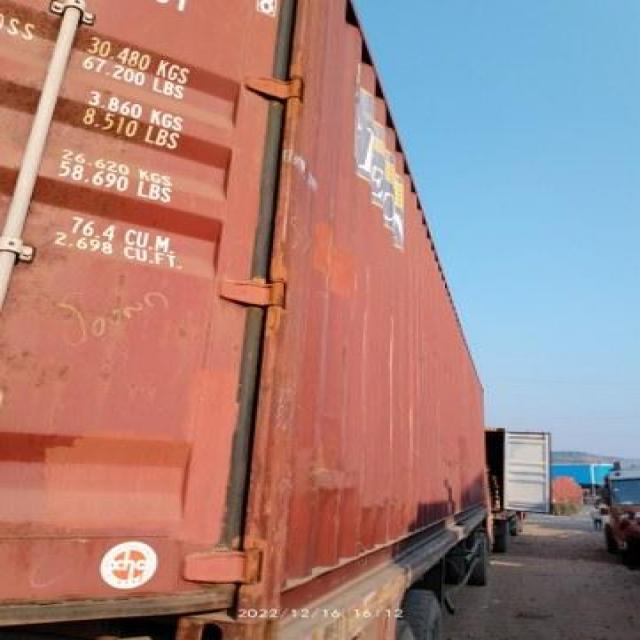Minor-Dent: (310, 466, 362, 505), (363, 494, 419, 514)
